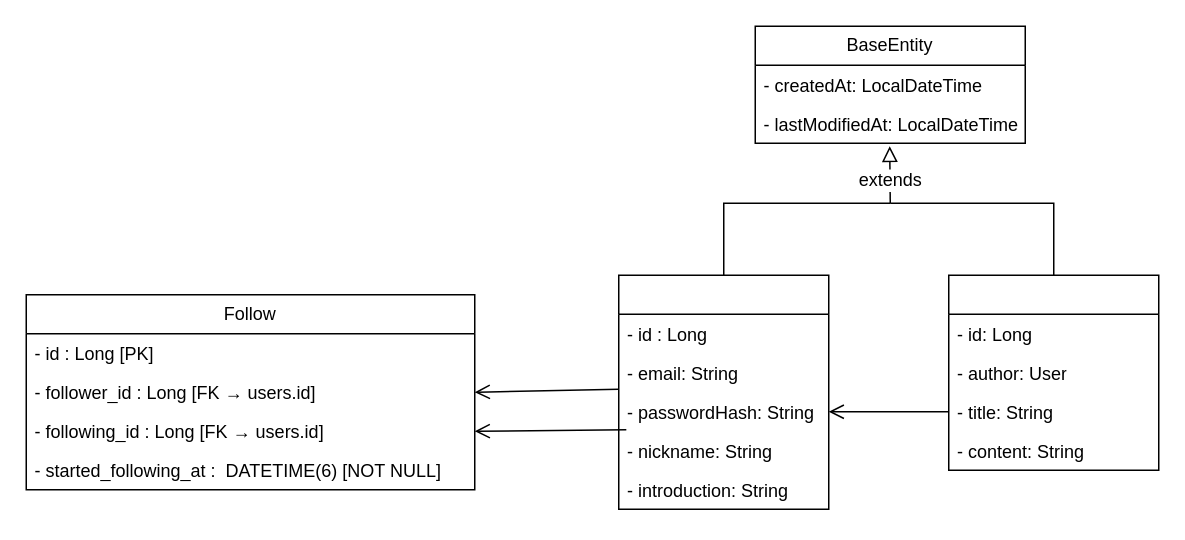
The diagram is 1185 pixels wide and 540 high, and some of its shapes have lost their labels. Each missing label, with the box of its shape:
Post: (947, 274, 1159, 470)
User: (617, 274, 829, 509)
